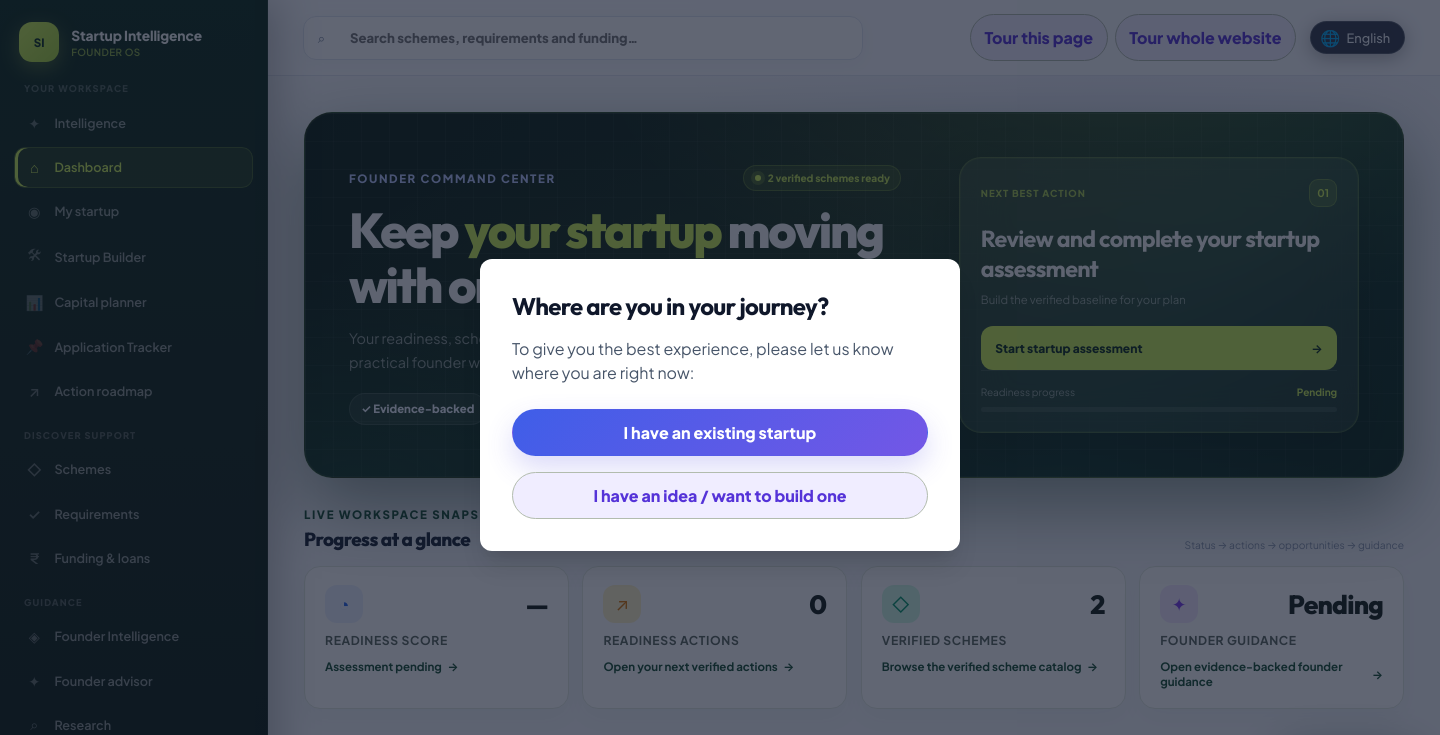
Test: functional user dashboard › shows journey dialog when no startup profile exists
Expected: the heading "Where are you in your journey?" is shown, [512,291,828,321]
Click the button "I have an existing startup". click: click(720, 432)
box: [512,409,928,456]
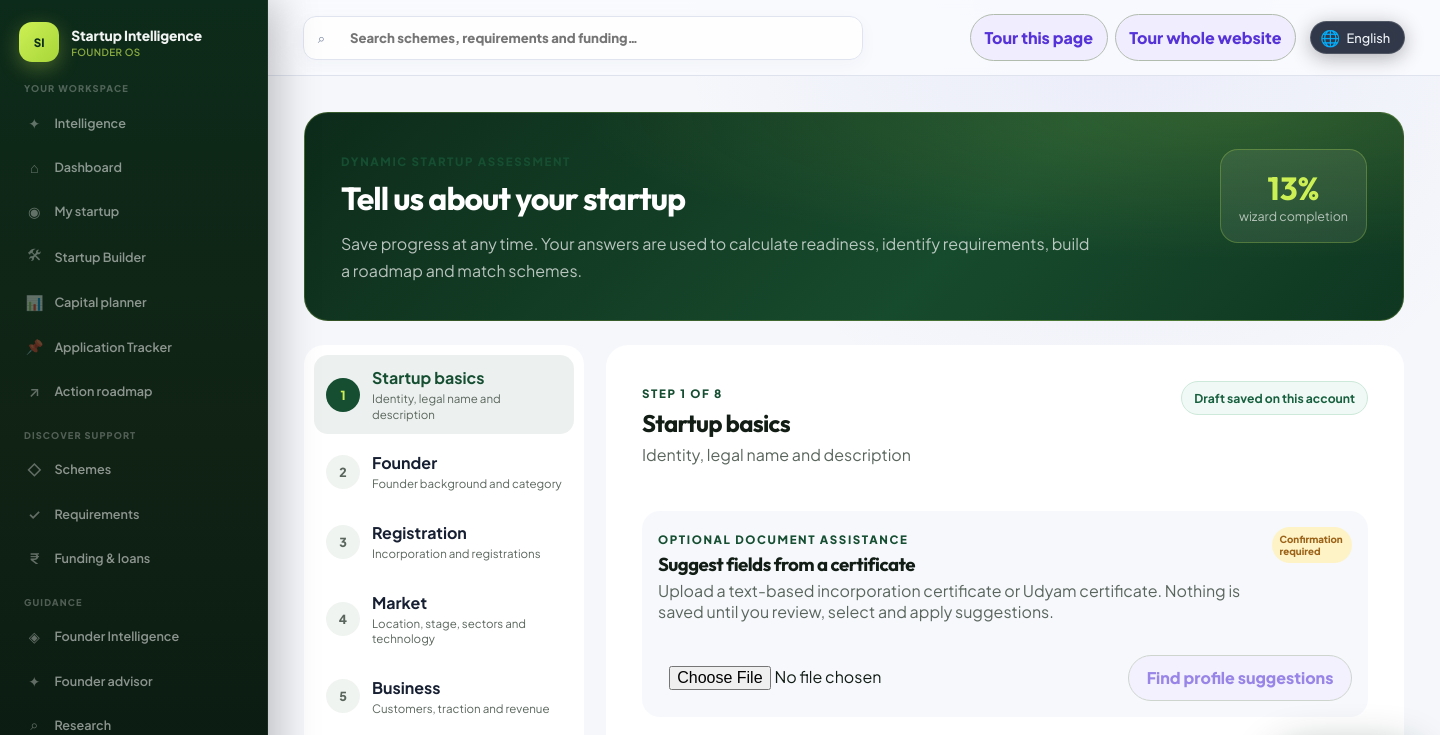
Result: the heading "Tell us about your startup" is shown at [341,178,685,218]
